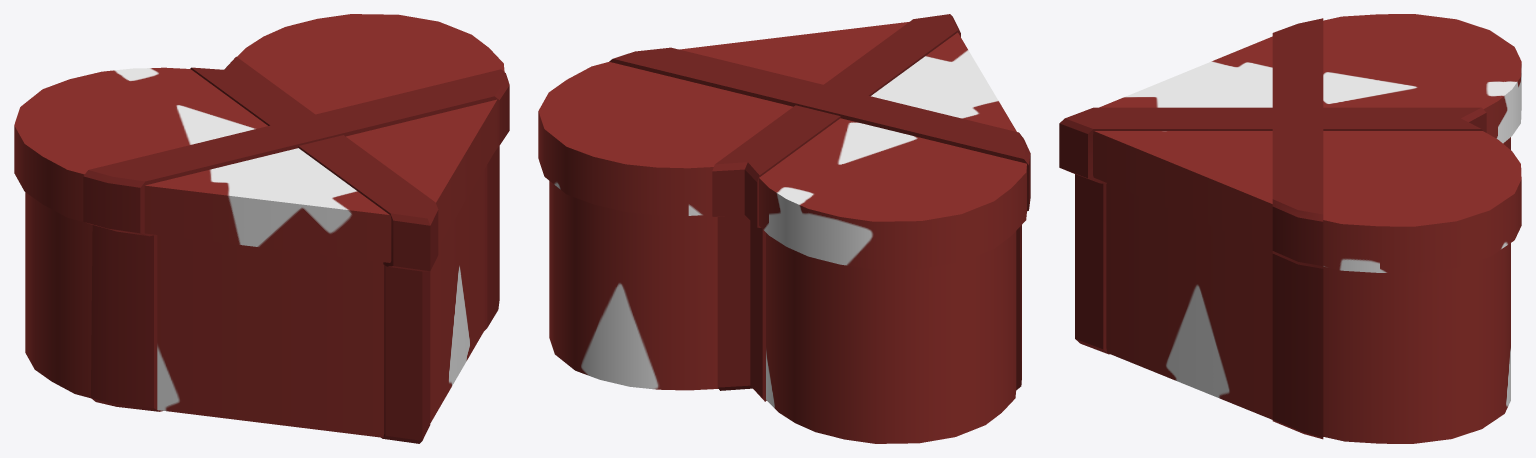
File: PresentBox_Heart_02.fbx
The picture shows the model from 3 angles, left to right: view 1: azimuth 30°, elevation 25°; view 2: azimuth 150°, elevation 25°; view 3: azimuth 270°, elevation 25°; orthographic projection. The views are drawn at different scales.
Parts seen in each view (by area): view 1: PresentBox_Heart_02_Top, PresentBox_Heart_02; view 2: PresentBox_Heart_02_Top, PresentBox_Heart_02; view 3: PresentBox_Heart_02_Top, PresentBox_Heart_02.
Part boxes in pixels (x1,y1,x2,y2): PresentBox_Heart_02_Top: [14, 14, 509, 271]; PresentBox_Heart_02: [25, 146, 499, 443]; PresentBox_Heart_02_Top: [538, 14, 1030, 269]; PresentBox_Heart_02: [549, 181, 1021, 443]; PresentBox_Heart_02_Top: [1059, 14, 1521, 273]; PresentBox_Heart_02: [1075, 137, 1510, 443].
Bounding box in the file's own units: 0.3448 × 0.1724 × 0.3167.
